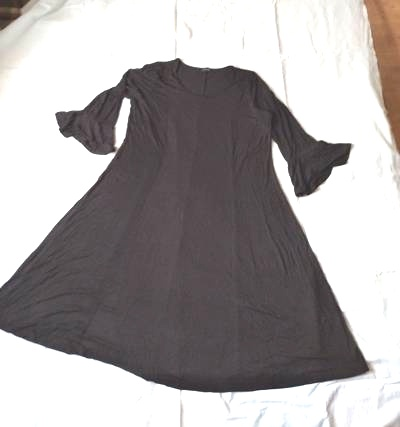Dress: (10, 57, 379, 392)
